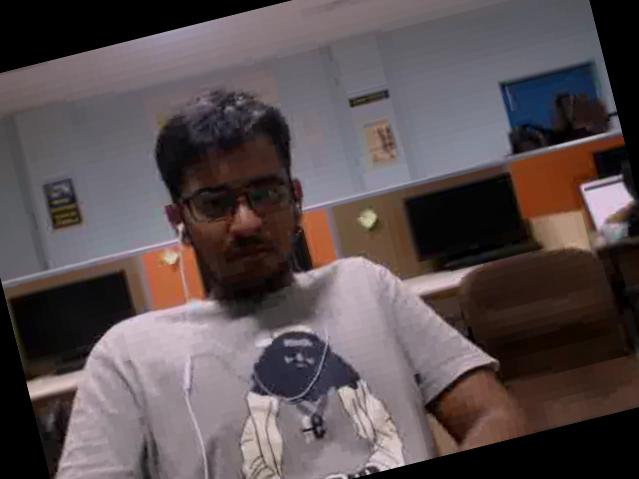bingung: (173, 134, 315, 298)
